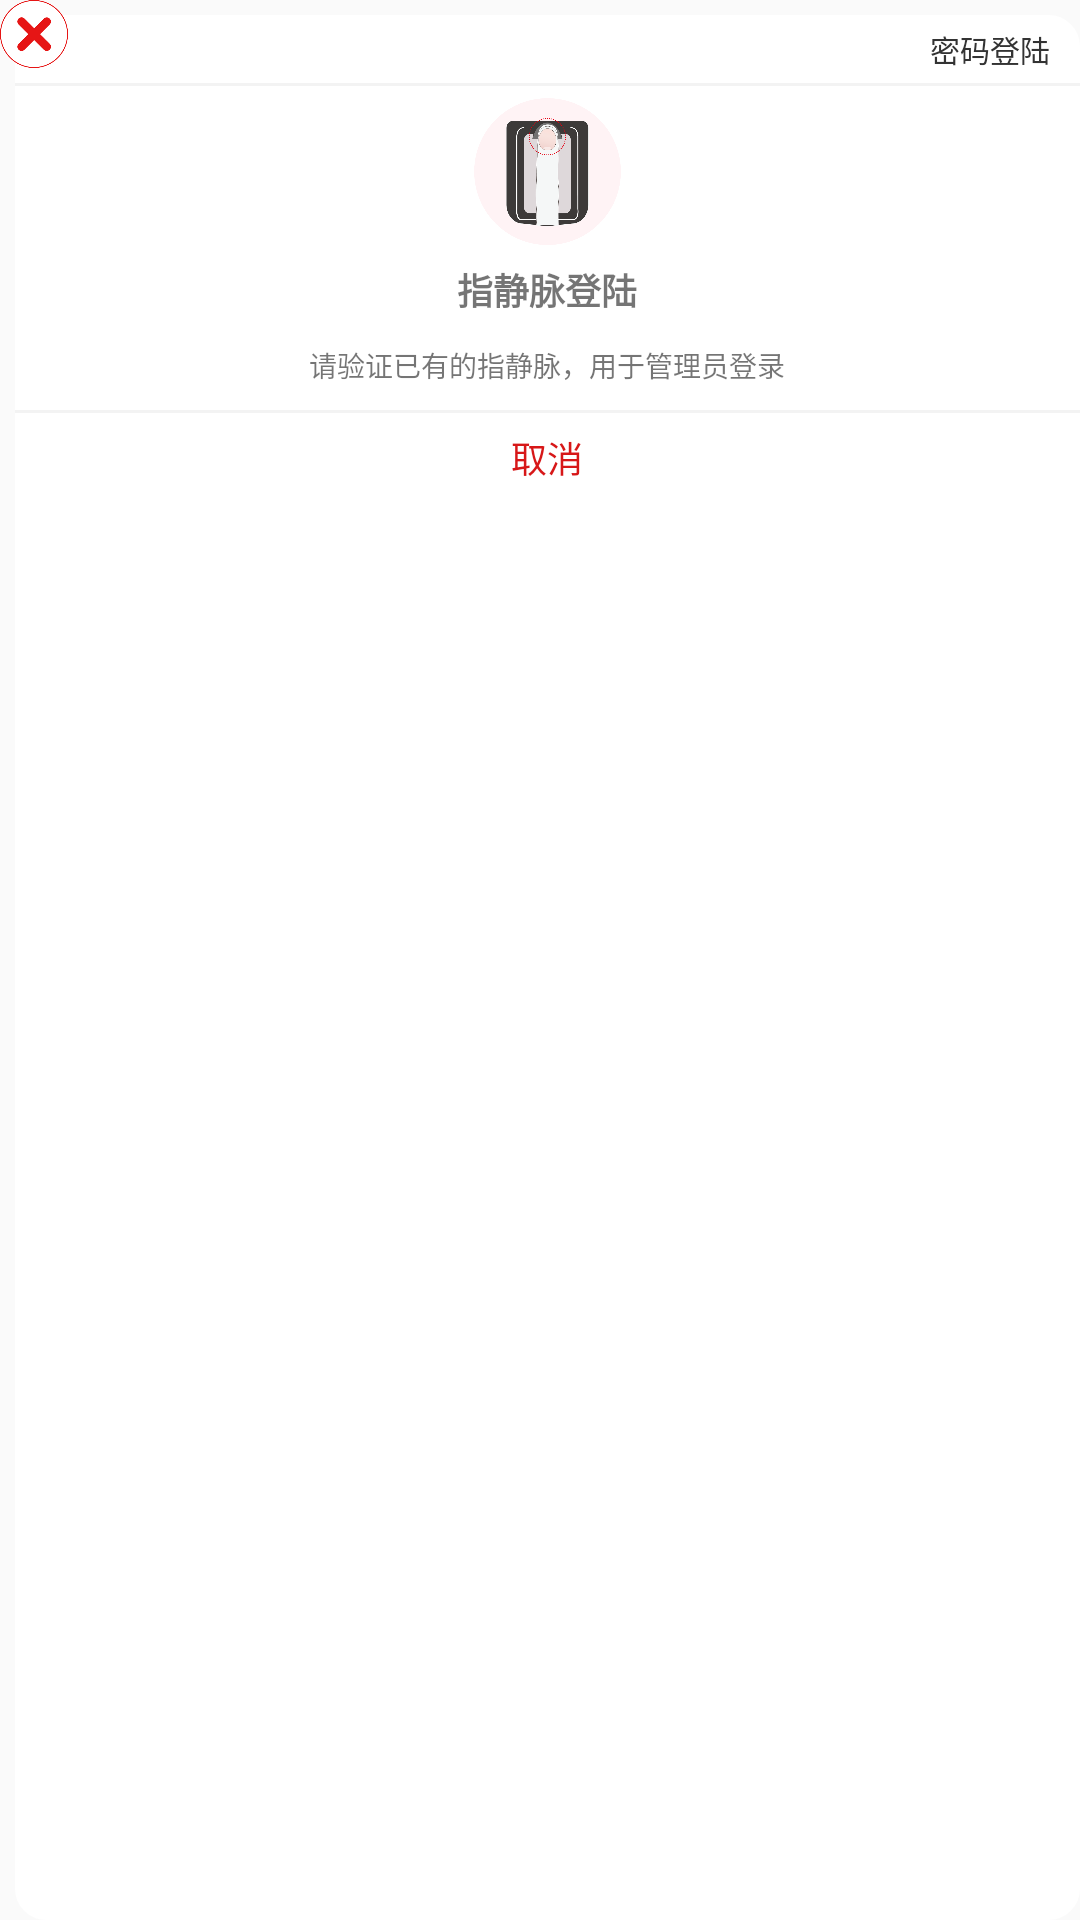

Icon bounding boxes for this 1080×1920 phone screenshot, format (x1, y1, x2, y2):
close: (0, 0, 68, 68)
